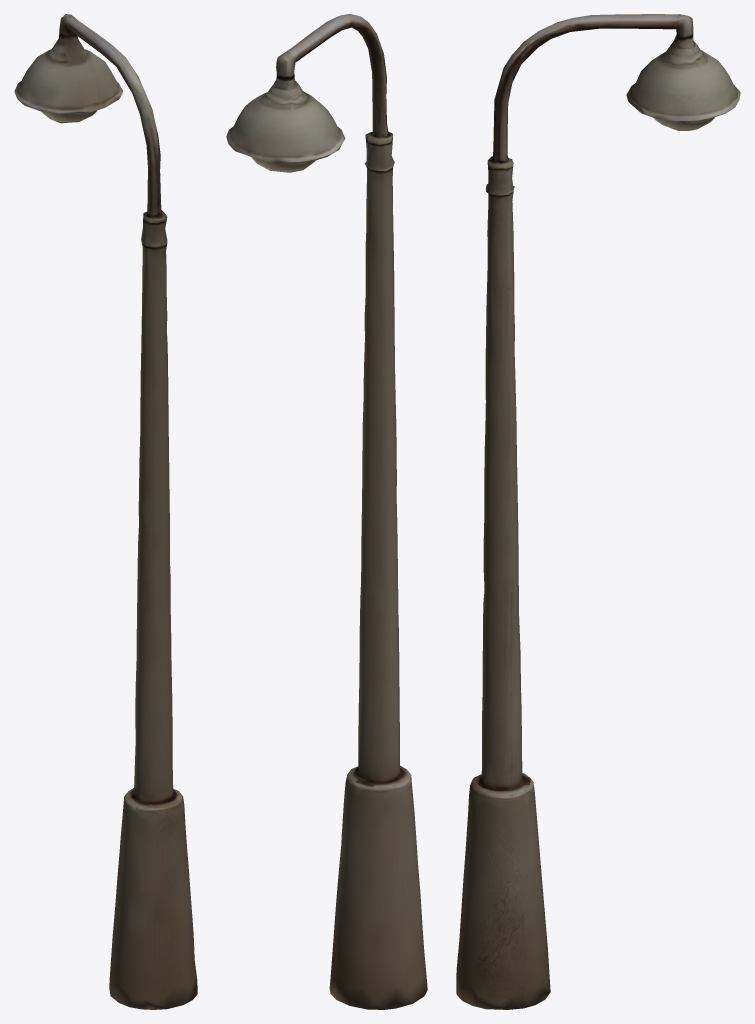
Rendered from Lamp.fbx.
The picture shows the model from 3 angles, left to right: view 1: azimuth 30°, elevation 25°; view 2: azimuth 150°, elevation 25°; view 3: azimuth 270°, elevation 25°; orthographic projection. The views are drawn at different scales.
Visible parts, largest first — view 1: tripo_node_a5e6d871; view 2: tripo_node_a5e6d871; view 3: tripo_node_a5e6d871.
Part boxes in pixels (x1,y1,x2,y2): tripo_node_a5e6d871: [14, 14, 197, 1009]; tripo_node_a5e6d871: [226, 14, 427, 1009]; tripo_node_a5e6d871: [456, 14, 740, 1009].
Bounding box in the file's own units: 0.1074 × 0.9998 × 0.2642.
1 material, 1 textured.
